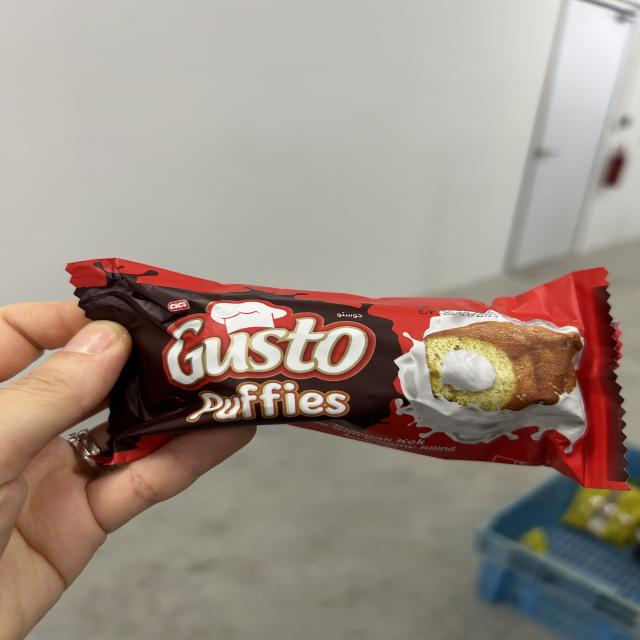object_name: (112, 272, 603, 469)
